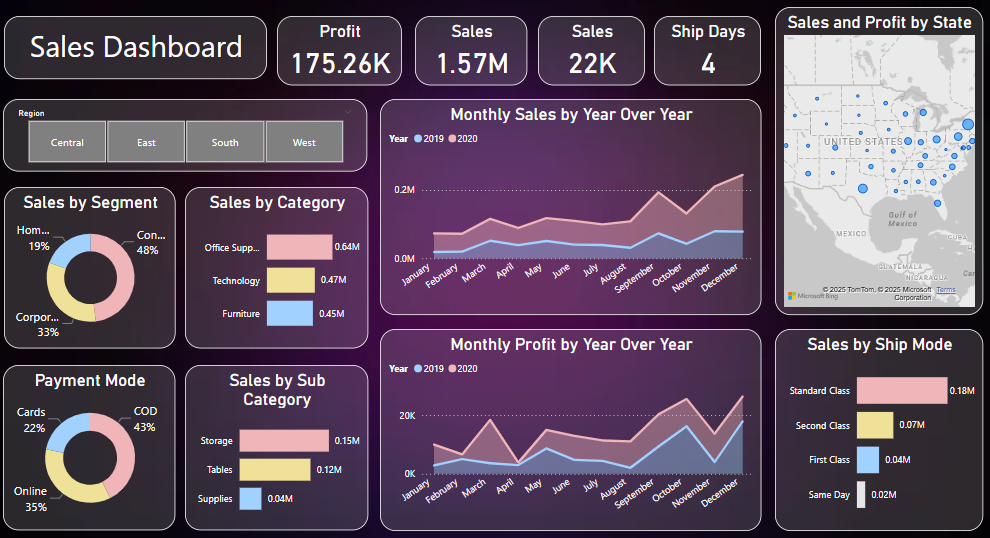

Layout of this report page (visuals, bound fields, positions):
{"tool":"powerbi","page":{"name":"Page 1","canvas":[1280,720],"ordinal":0},"visuals":[{"type":"clusteredBarChart","title":"Sales by Category","fields":{"Category":["SuperStore_Sales_Dataset.Category"],"Y":["Sum(SuperStore_Sales_Dataset.Sales)"]},"box":[241.3,242.7,234.7,206.7],"z":0},{"type":"clusteredBarChart","title":"Sales by Sub Category","fields":{"Category":["SuperStore_Sales_Dataset.Sub-Category"],"Y":["Sum(SuperStore_Sales_Dataset.Sales)"]},"box":[241.3,470.7,234.7,212],"z":1000},{"type":"clusteredBarChart","title":"Sales by Ship Mode","fields":{"Y":["Sum(SuperStore_Sales_Dataset.Sales)"],"Category":["SuperStore_Sales_Dataset.Ship Mode"]},"box":[997.3,424,266.7,258.7],"z":2000},{"type":"stackedAreaChart","title":"Monthly Sales by Year Over Year","fields":{"Y":["Sum(SuperStore_Sales_Dataset.Sales)"],"Category":["SuperStore_Sales_Dataset.Order Date.Variation.Date Hierarchy.Month","SuperStore_Sales_Dataset.Order Date.Variation.Date Hierarchy.Day"],"Series":["SuperStore_Sales_Dataset.Order Date.Variation.Date Hierarchy.Year"]},"box":[490.7,129.3,489.3,277.3],"z":3000},{"type":"stackedAreaChart","title":"Monthly Profit by Year Over Year","fields":{"Category":["SuperStore_Sales_Dataset.Order Date.Variation.Date Hierarchy.Month","SuperStore_Sales_Dataset.Order Date.Variation.Date Hierarchy.Day"],"Series":["SuperStore_Sales_Dataset.Order Date.Variation.Date Hierarchy.Year"],"Y":["Sum(SuperStore_Sales_Dataset.Profit)"]},"box":[490.7,424,489.3,258.7],"z":4000},{"type":"map","title":"Sales and Profit by State","fields":{"Category":["SuperStore_Sales_Dataset.State"],"Size":["Sum(SuperStore_Sales_Dataset.Sales)"]},"box":[997.3,12,266.7,394.7],"z":5000},{"type":"donutChart","title":"Sales by Segment","fields":{"Category":["SuperStore_Sales_Dataset.Segment"],"Y":["Sum(SuperStore_Sales_Dataset.Sales)"]},"box":[9.3,242.7,220,206.7],"z":6000},{"type":"donutChart","title":"Payment Mode","fields":{"Y":["Sum(SuperStore_Sales_Dataset.Sales)"],"Category":["SuperStore_Sales_Dataset.Payment Mode"]},"box":[8,470.7,221.3,212],"z":7000},{"type":"slicer","fields":{"Values":["SuperStore_Sales_Dataset.Region"]},"box":[8,129.3,466.7,93.3],"z":8000},{"type":"textbox","box":[9.3,22.7,337.3,81.3],"z":9000},{"type":"card","title":"Profit","fields":{"Values":["Sum(SuperStore_Sales_Dataset.Profit)"]},"box":[358.7,22.7,160,89.3],"z":10000},{"type":"card","title":"Sales","fields":{"Values":["Sum(SuperStore_Sales_Dataset.Sales)"]},"box":[536,22.7,144,89.3],"z":11000},{"type":"card","title":"Sales","fields":{"Values":["Sum(SuperStore_Sales_Dataset.Quantity)"]},"box":[693.3,22.7,137.3,89.3],"z":12000},{"type":"card","title":"Ship Days","fields":{"Values":["Avg(SuperStore_Sales_Dataset.Avg_Delivery)"]},"box":[842.7,22.7,137.3,89.3],"z":13000}]}

Visuals, with their boxes on the page's 1280x720 design canvas (x1, y1, x2, y2). These are canvas units, not pixel positions in the 990x538 screenshot, which may show the page scaled, cropped or inside an application window:
"Sales by Category" clusteredBarChart: 241,243,476,449
"Sales by Sub Category" clusteredBarChart: 241,471,476,683
"Sales by Ship Mode" clusteredBarChart: 997,424,1264,683
"Monthly Sales by Year Over Year" stackedAreaChart: 491,129,980,407
"Monthly Profit by Year Over Year" stackedAreaChart: 491,424,980,683
"Sales and Profit by State" map: 997,12,1264,407
"Sales by Segment" donutChart: 9,243,229,449
"Payment Mode" donutChart: 8,471,229,683
slicer - SuperStore_Sales_Dataset.Region: 8,129,475,223
textbox: 9,23,347,104
"Profit" card: 359,23,519,112
"Sales" card: 536,23,680,112
"Sales" card: 693,23,831,112
"Ship Days" card: 843,23,980,112
